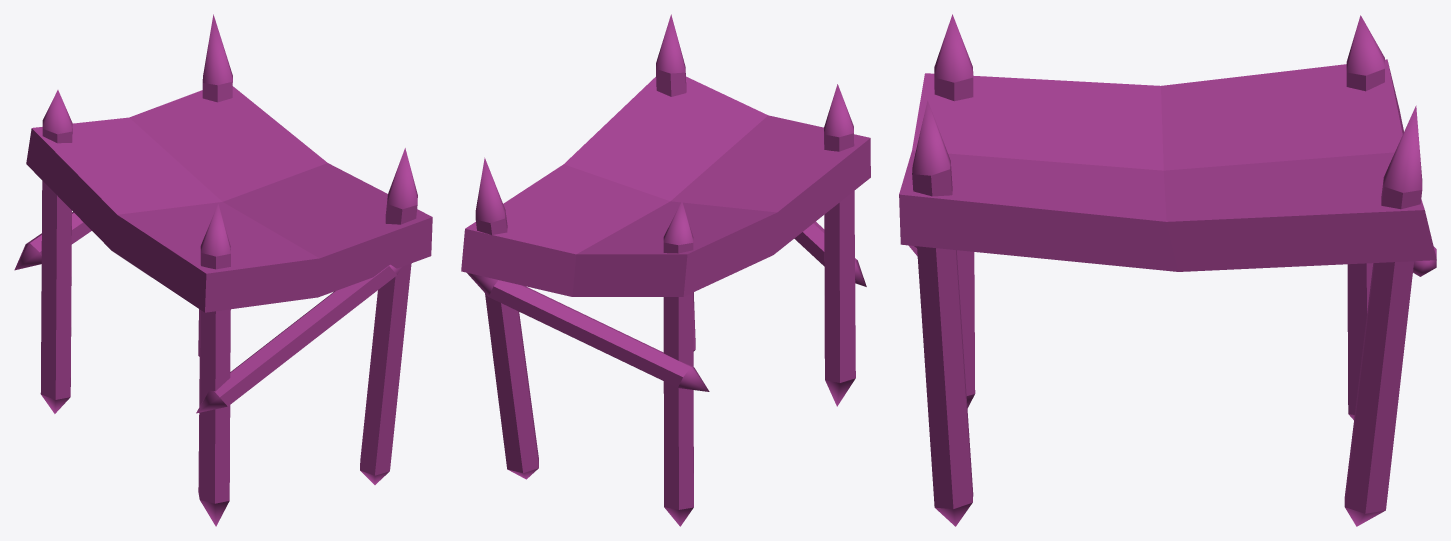
File: SM_Bld_Tent_Basic_02_Collision.fbx
3 views of the same model, side by side, from view 1: azimuth 30°, elevation 25°; view 2: azimuth 150°, elevation 25°; view 3: azimuth 270°, elevation 25° (orthographic). The views are drawn at different scales.
Parts seen in each view (by area): view 1: SM_Bld_Tent_Basic_02_Collision; view 2: SM_Bld_Tent_Basic_02_Collision; view 3: SM_Bld_Tent_Basic_02_Collision.
Boxes of the visible parts, x1,y1,x2,y2 form: SM_Bld_Tent_Basic_02_Collision: [14, 14, 432, 526]; SM_Bld_Tent_Basic_02_Collision: [461, 14, 870, 526]; SM_Bld_Tent_Basic_02_Collision: [899, 14, 1436, 526].
Bounding box in the file's own units: 340 × 487 × 530.
